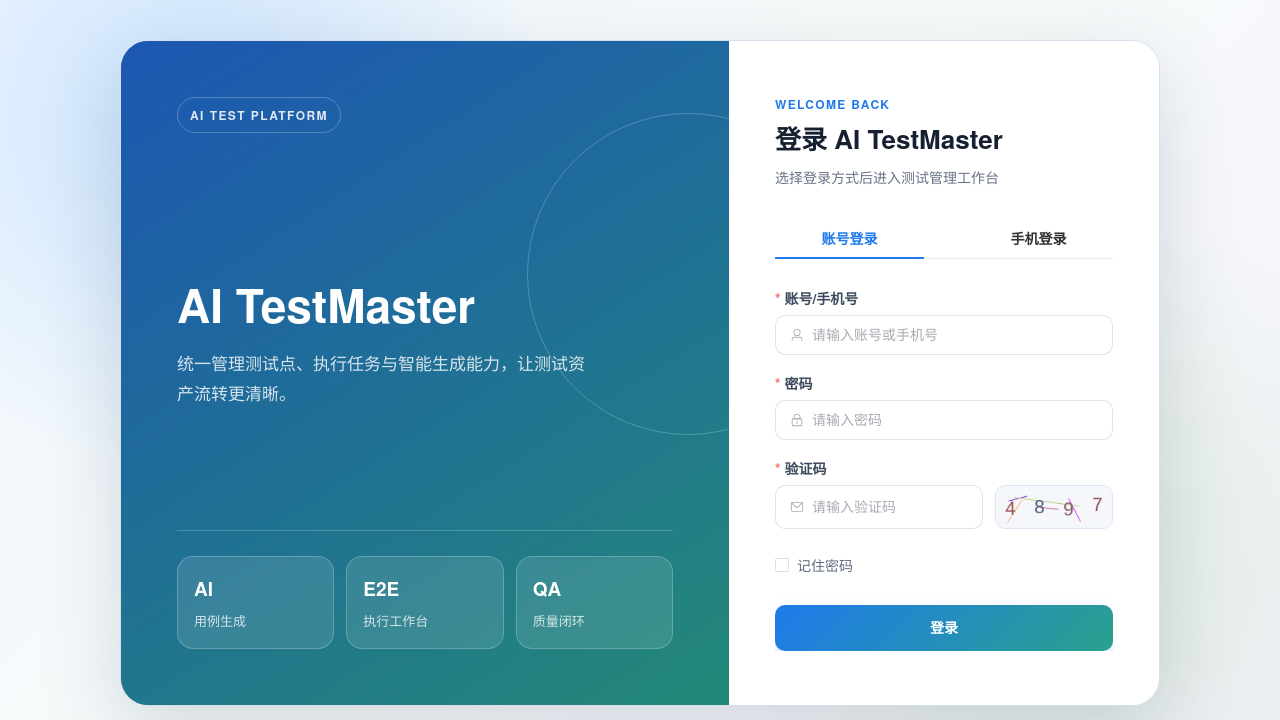
Test: AI TestMaster Complete E2E Tests › User Login Authentication › T03: Login with wrong password - verify error message
The width and height of the screenshot is (1280, 720).
Step 1. Click the tab "账号登录" → (850, 238), box [822,228,878,248]
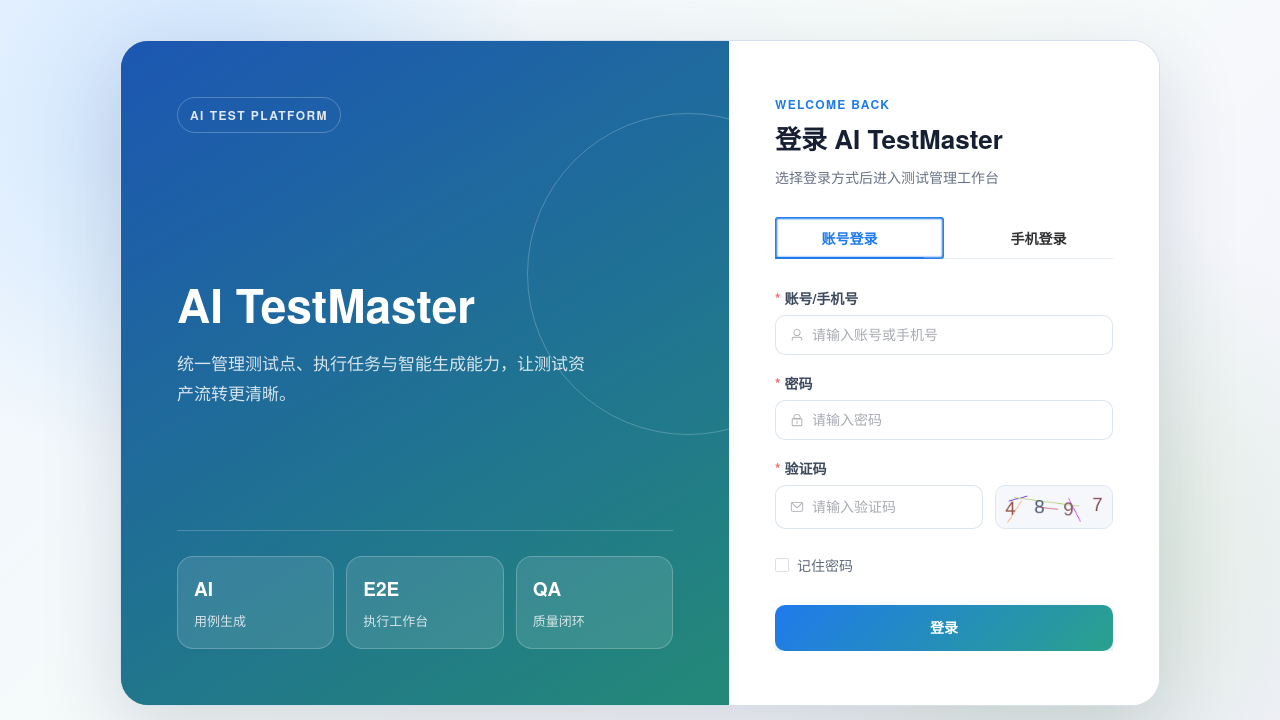
Step 2. Type "admin" into the field labelled "账号/手机号" → (955, 335), box [812,316,1098,354]
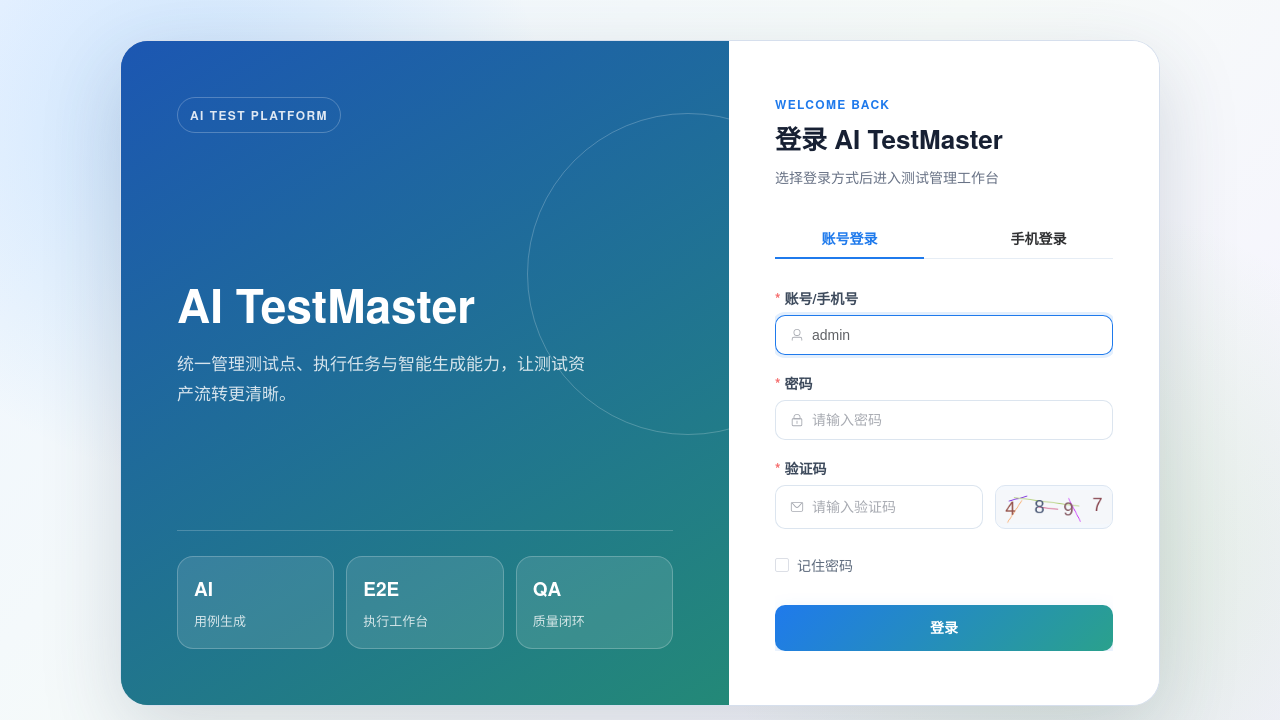
Step 3. Type "wrongpassword" into the password field labelled "密码" → (955, 420), box [812,401,1098,439]
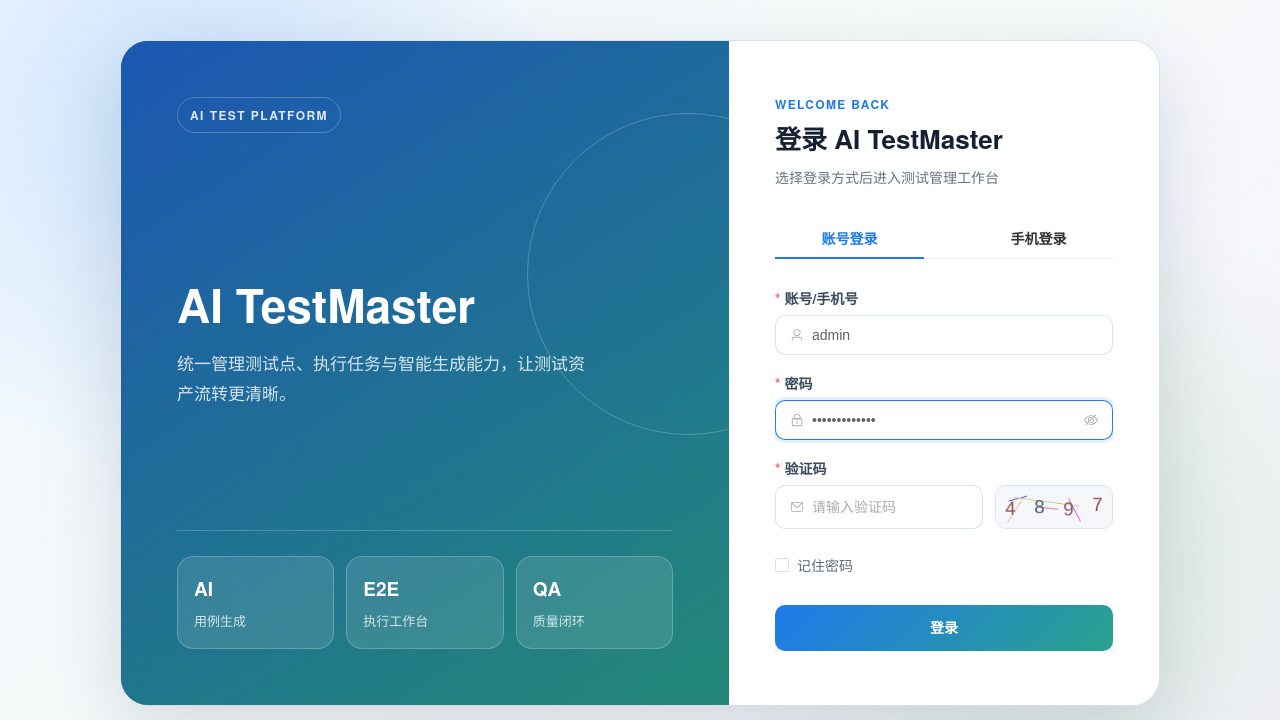
Step 4. Type "0000" into the field labelled "验证码" → (890, 507), box [812,488,968,526]
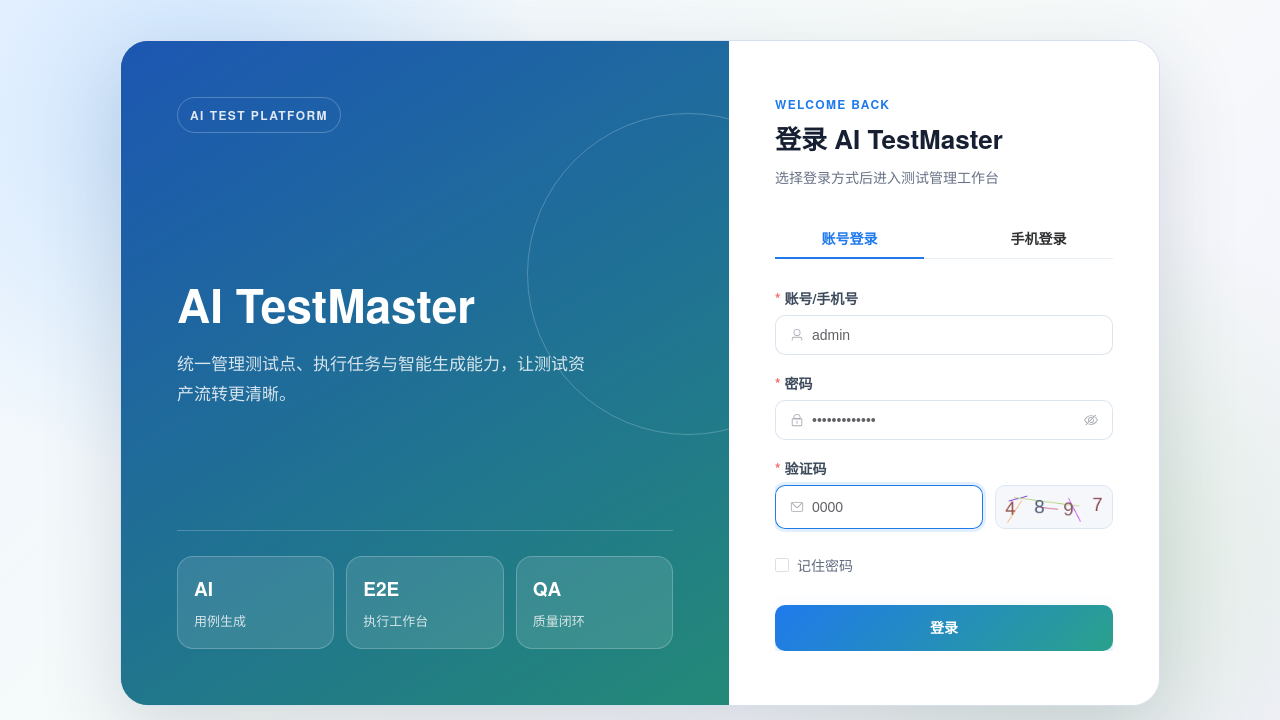
Step 5. Click the button "登录" → (944, 628), box [775,605,1113,651]
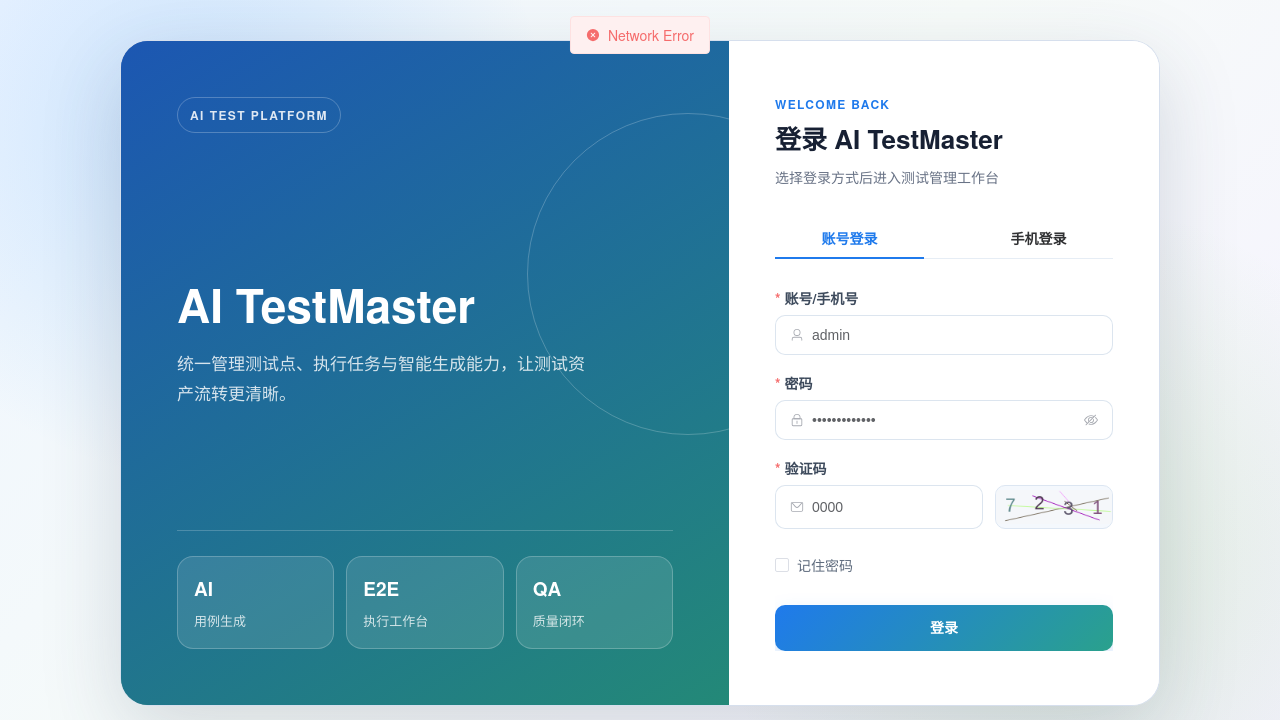
Result: the text "Network Error" is shown at [608,28,694,42]
